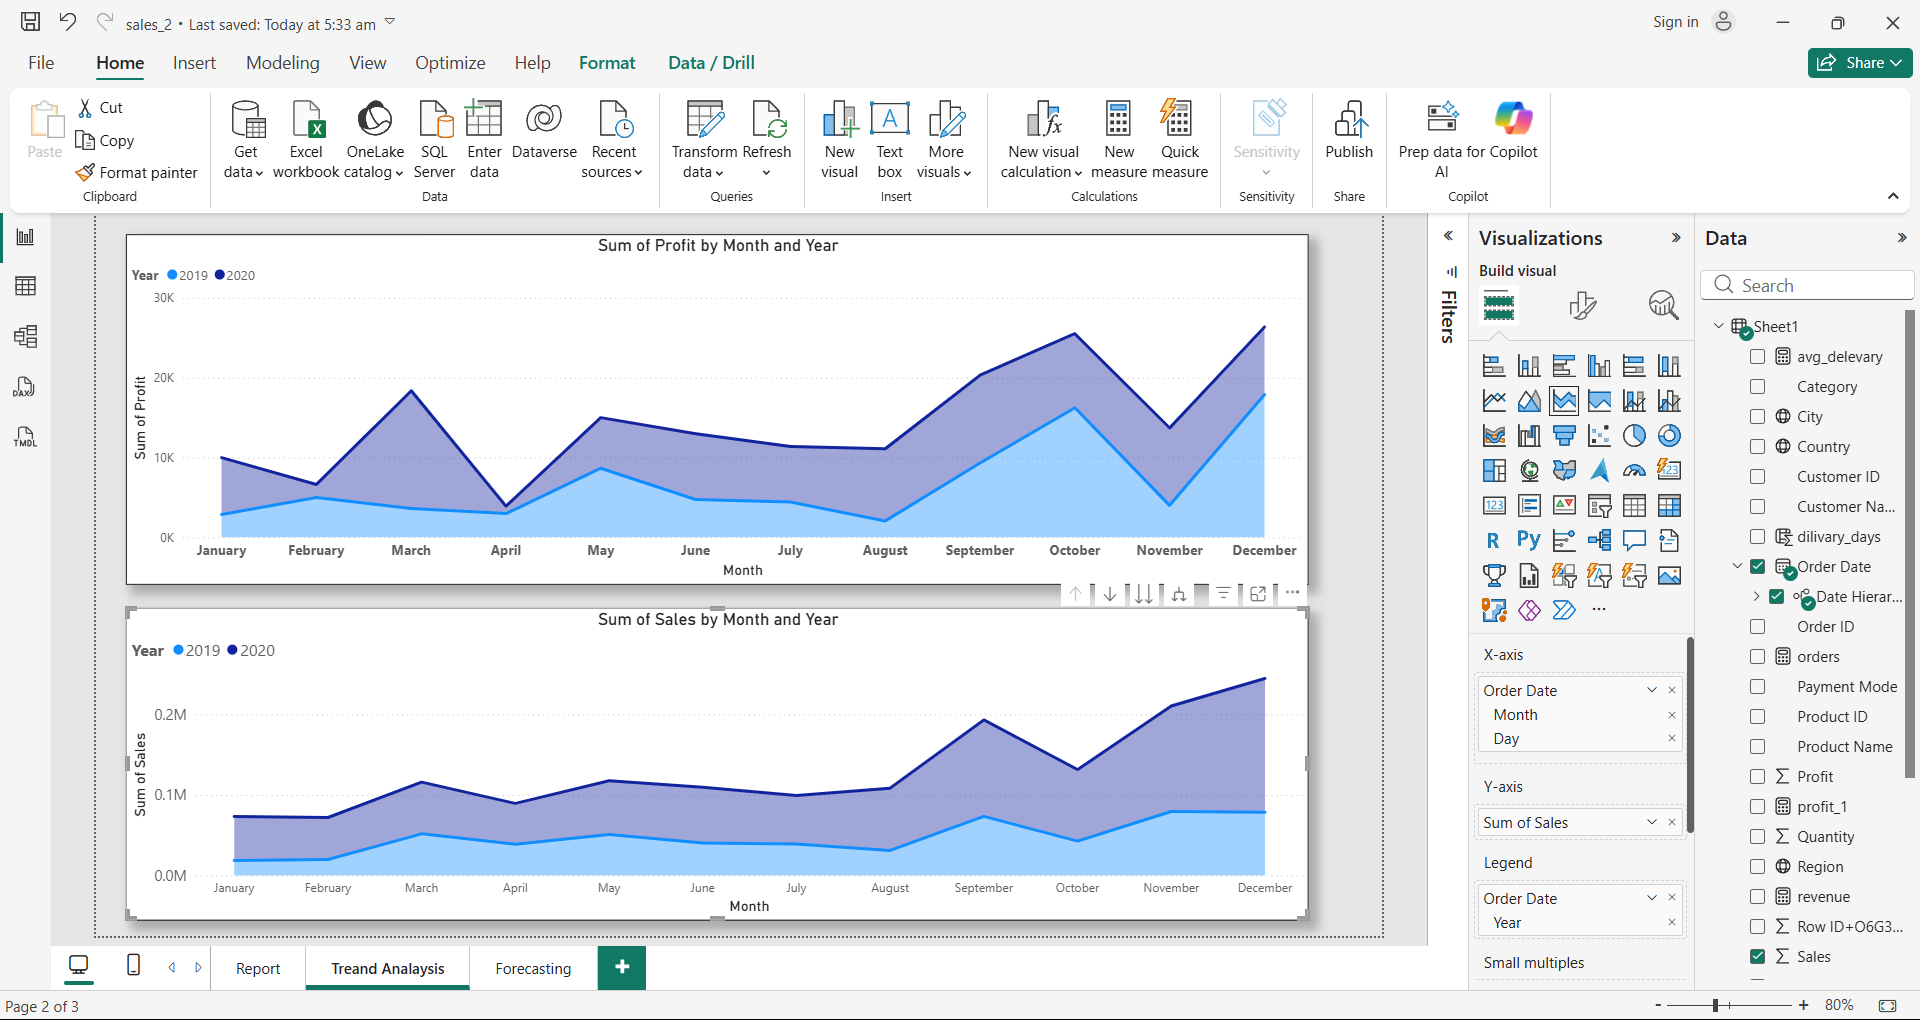

The dashboard page shown, as its layout file describes it:
{"tool":"powerbi","page":{"name":"Treand Analaysis","canvas":[1280,720],"ordinal":1},"visuals":[{"type":"stackedAreaChart","fields":{"Category":["Sheet1.Order Date.Variation.Date Hierarchy.Month","Sheet1.Order Date.Variation.Date Hierarchy.Day"],"Y":["Sum(Sheet1.Profit)"],"Series":["Sheet1.Order Date.Variation.Date Hierarchy.Year"]},"box":[30,21.4,1177.1,348.6],"z":0},{"type":"stackedAreaChart","fields":{"Category":["Sheet1.Order Date.Variation.Date Hierarchy.Month","Sheet1.Order Date.Variation.Date Hierarchy.Day"],"Y":["Sum(Sheet1.Sales)"],"Series":["Sheet1.Order Date.Variation.Date Hierarchy.Year"]},"box":[30,392.9,1177.1,311.4],"z":1000}]}

Visuals, with their boxes on the page's 1280x720 design canvas (x1, y1, x2, y2). These are canvas units, not pixel positions in the 1920x1020 screenshot, which may show the page scaled, cropped or inside an application window:
stackedAreaChart - Sheet1.Order Date.Variation.Date Hierarchy.Month x Sheet1.Order Date.Variation.Date Hierarchy.Day: 30:21:1207:370
stackedAreaChart - Sheet1.Order Date.Variation.Date Hierarchy.Month x Sheet1.Order Date.Variation.Date Hierarchy.Day: 30:393:1207:704
